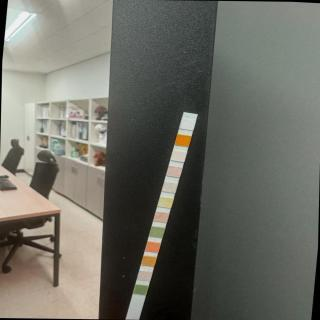mark: (150, 226, 164, 238), (142, 256, 156, 266), (146, 241, 160, 251), (154, 212, 168, 222), (172, 152, 186, 162), (176, 136, 190, 146), (180, 120, 194, 130), (159, 197, 172, 207), (163, 183, 176, 193), (136, 284, 148, 294), (138, 272, 150, 282), (168, 166, 180, 176)
